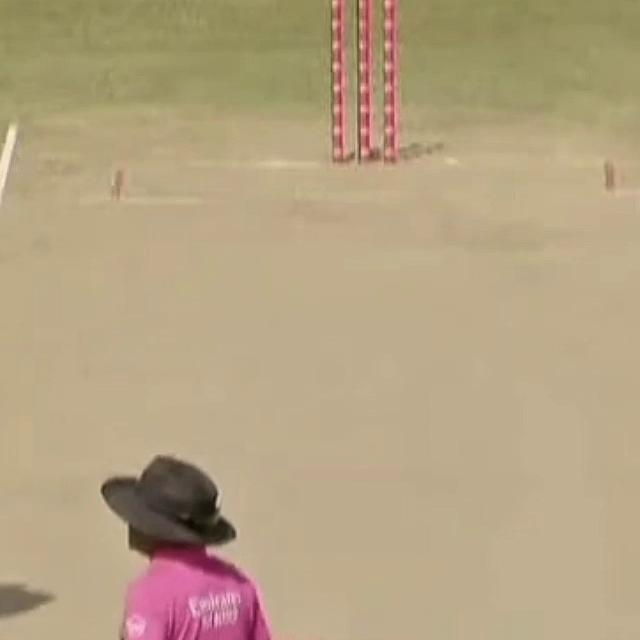umpire: (49, 450, 306, 640), (50, 455, 303, 640)
